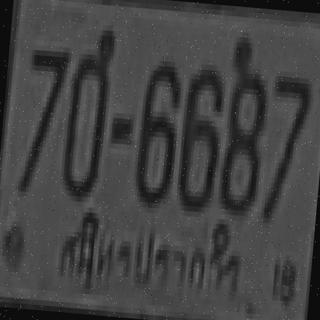N00: (59, 25, 113, 195)
N06: (132, 54, 181, 204), (174, 58, 223, 208)
N07: (261, 70, 310, 220), (18, 44, 66, 194)
N08: (216, 62, 267, 212)
P57: (49, 211, 245, 305)
